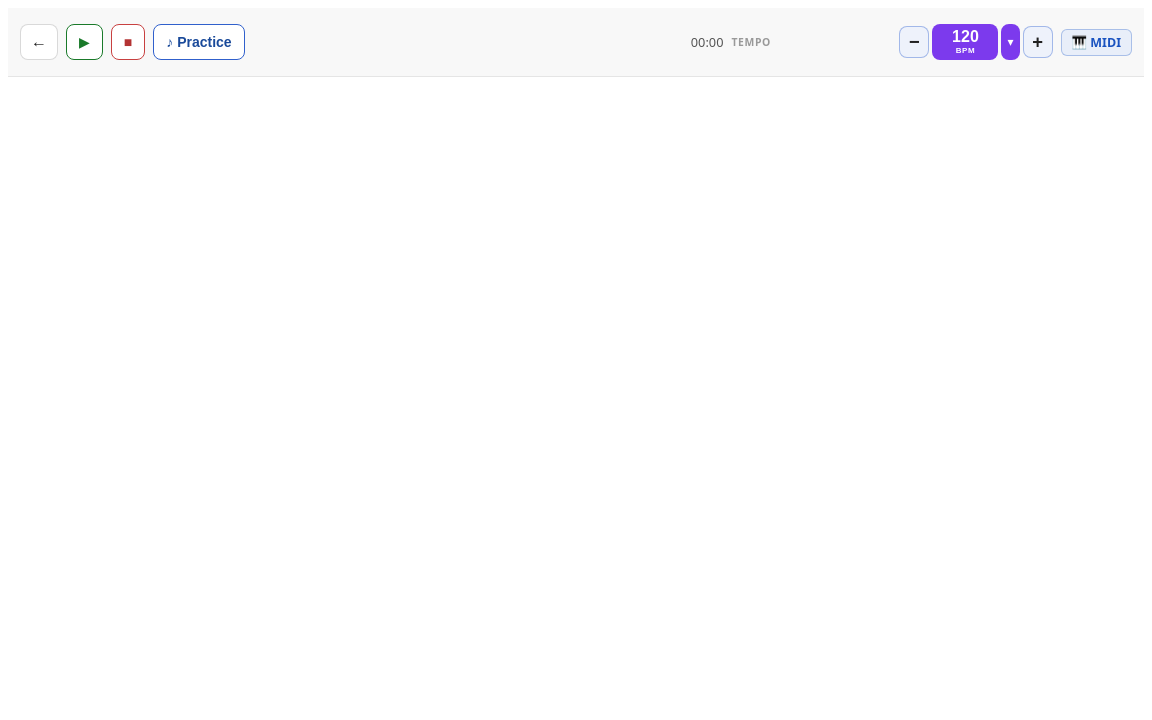
Test: PracticeViewPlugin — Replay (038-practice-replay) › T006: shows Replay button after exercise completion
Click the button with aria-label "start practice". click: (199, 42)
box: [153, 24, 245, 60]
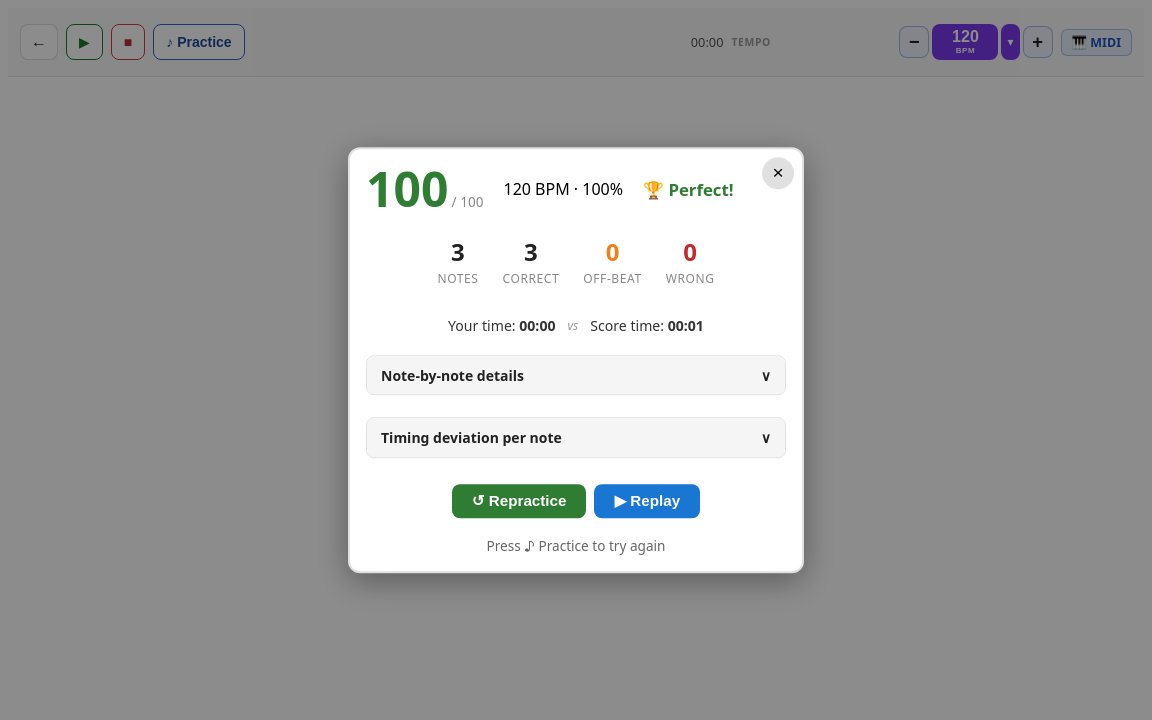
Check: the element named "practice results" is shown, box [348, 147, 804, 573]
Check: the button with aria-label "replay your performance" is shown, box [594, 484, 700, 518]
